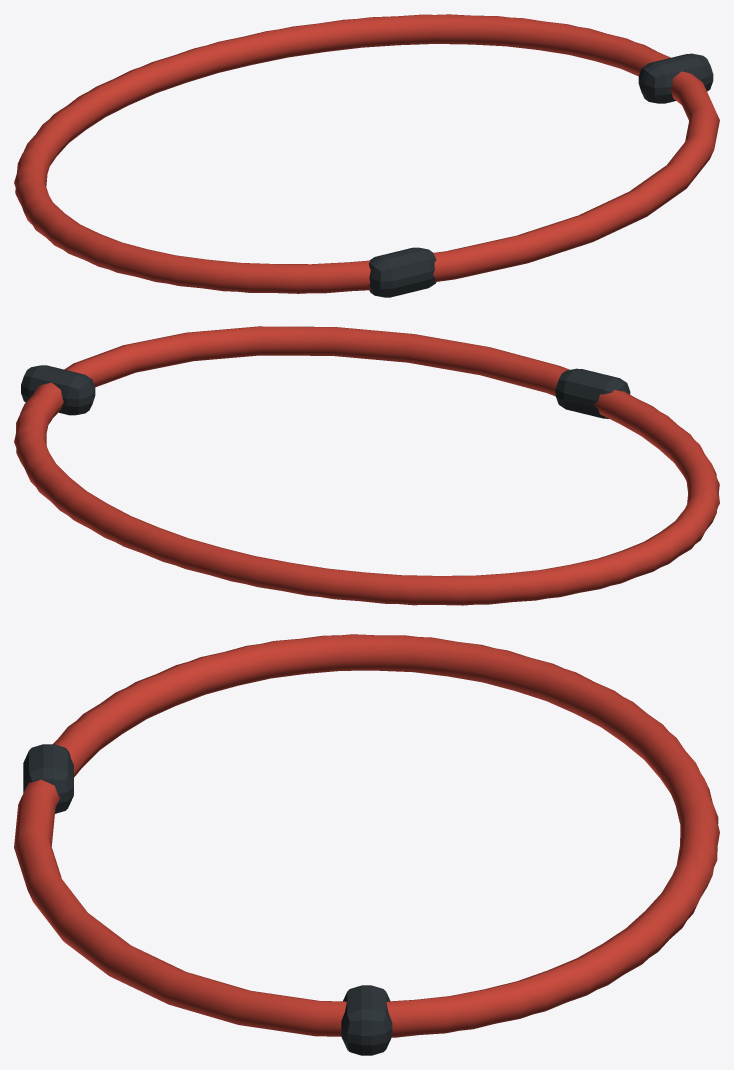
Rendered from cable_red.glb.
3 views of the same model, one above another, from view 1: azimuth 30°, elevation 25°; view 2: azimuth 150°, elevation 25°; view 3: azimuth 270°, elevation 25° (orthographic). The views are drawn at different scales.
Parts seen in each view (by area): view 1: cable_red; view 2: cable_red; view 3: cable_red.
Part boxes in pixels (x1,y1,x2,y2): cable_red: (14,14,719,297); cable_red: (14,326,719,605); cable_red: (14,634,719,1055).
Size of the model in its own units: 0.6452 by 0.035 by 0.4855.
